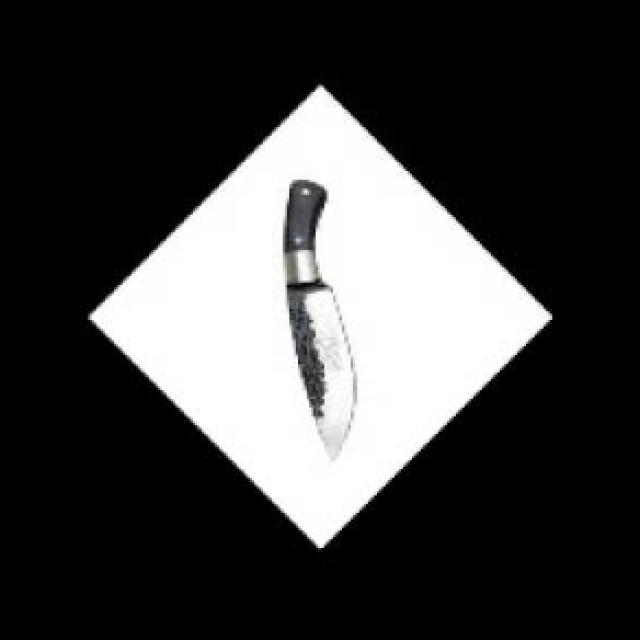knife: (285, 178, 358, 459)
